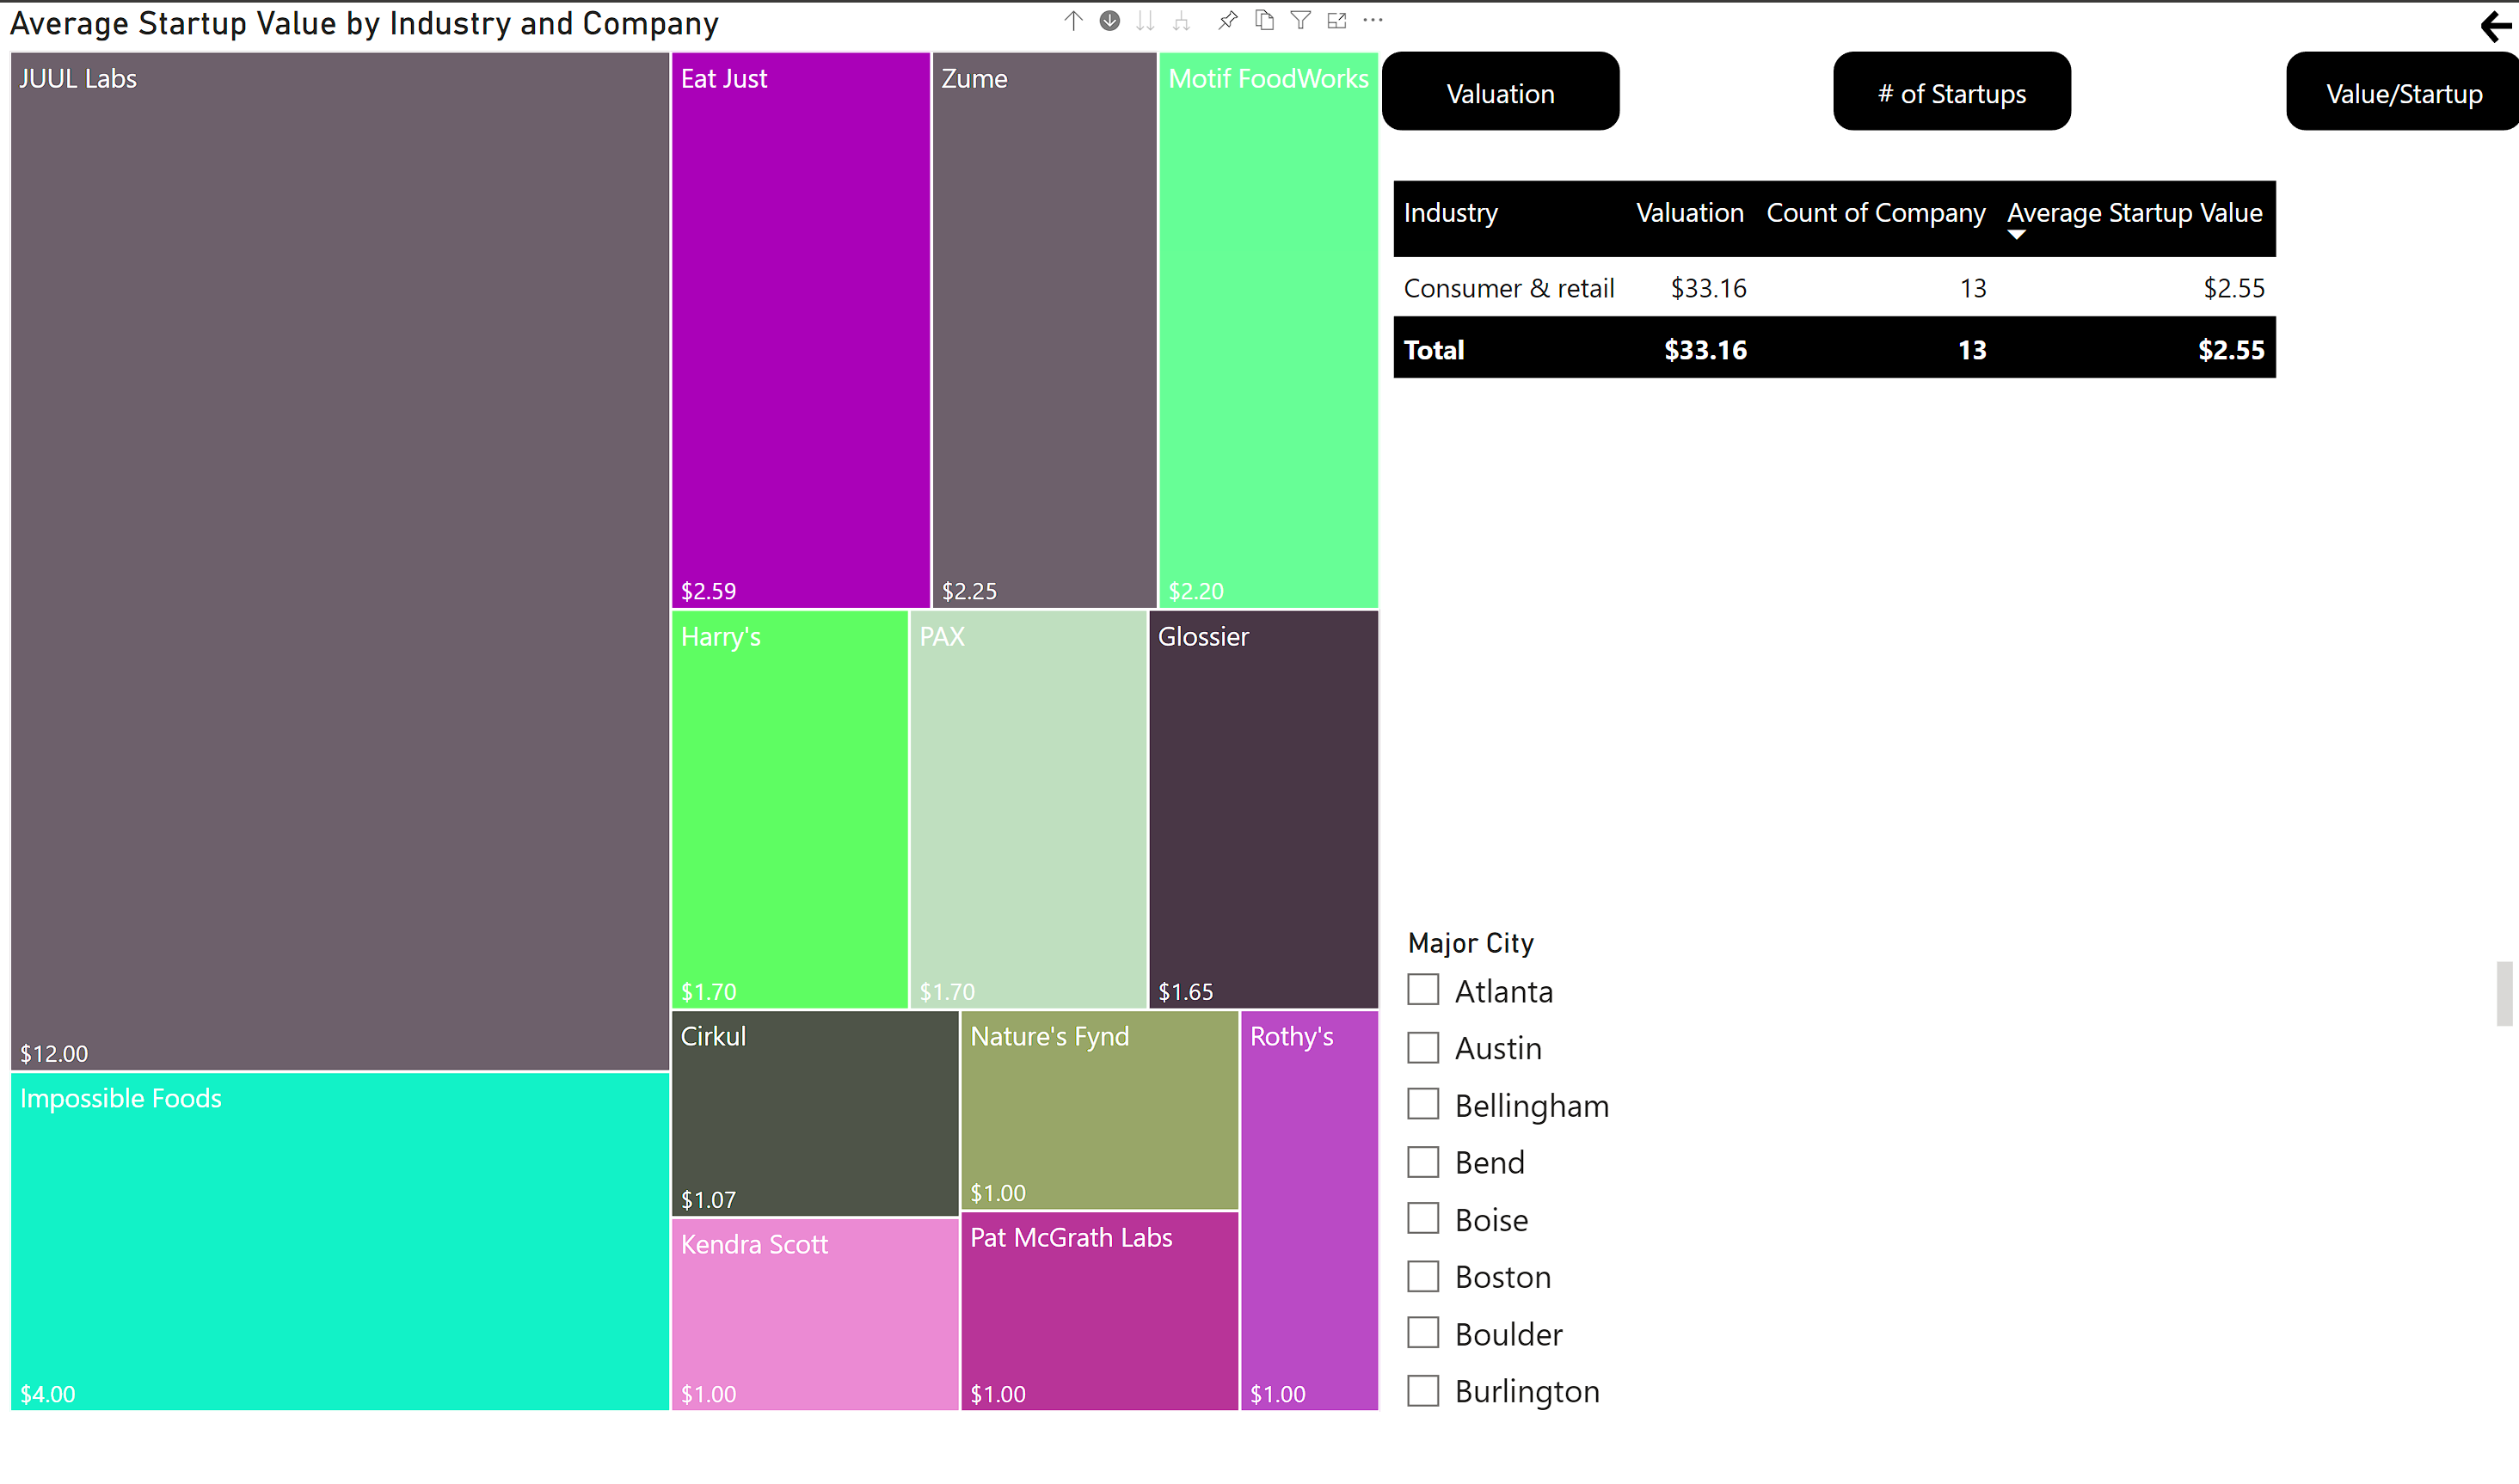

Layout of this report page (visuals, bound fields, positions):
{"tool":"powerbi","page":{"name":"Industries","canvas":[1280,720],"ordinal":3},"visuals":[{"type":"treemap","title":"Number of Startups per Industry","fields":{"Group":["Startups.Industry","Startups.Company"],"Values":["CountNonNull(Startups.Company)"]},"box":[0,0,705.1,719.8],"z":0},{"type":"tableEx","fields":{"Values":["Startups.Industry","Sum(Startups.Valuation)","Startups.Company","Major Cities Lookup.Average Startup Value"]},"box":[701.5,85.3,578.5,377.6],"z":1000},{"type":"slicer","fields":{"Values":["Major Cities Lookup.Major City"]},"box":[701.5,462.9,578.5,256.5],"z":4000},{"type":"actionButton","box":[701.5,24.7,120.5,40.2],"z":5000},{"type":"actionButton","box":[930.1,24.7,120.5,40.2],"z":6000},{"type":"actionButton","box":[1159.8,24.7,120.2,40.1],"z":7000},{"type":"actionButton","box":[1254.6,0,25.3,24.7],"z":8000}]}

Visuals, with their boxes on the page's 1280x720 design canvas (x1, y1, x2, y2). These are canvas units, not pixel positions in the 2519x1484 screenshot, which may show the page scaled, cropped or inside an application window:
"Number of Startups per Industry" treemap: <region>0, 0, 705, 720</region>
tableEx - Startups.Industry x Sum(Startups.Valuation): <region>702, 85, 1280, 463</region>
slicer - Major Cities Lookup.Major City: <region>702, 463, 1280, 719</region>
actionButton: <region>702, 25, 822, 65</region>
actionButton: <region>930, 25, 1051, 65</region>
actionButton: <region>1160, 25, 1280, 65</region>
actionButton: <region>1255, 0, 1280, 25</region>
